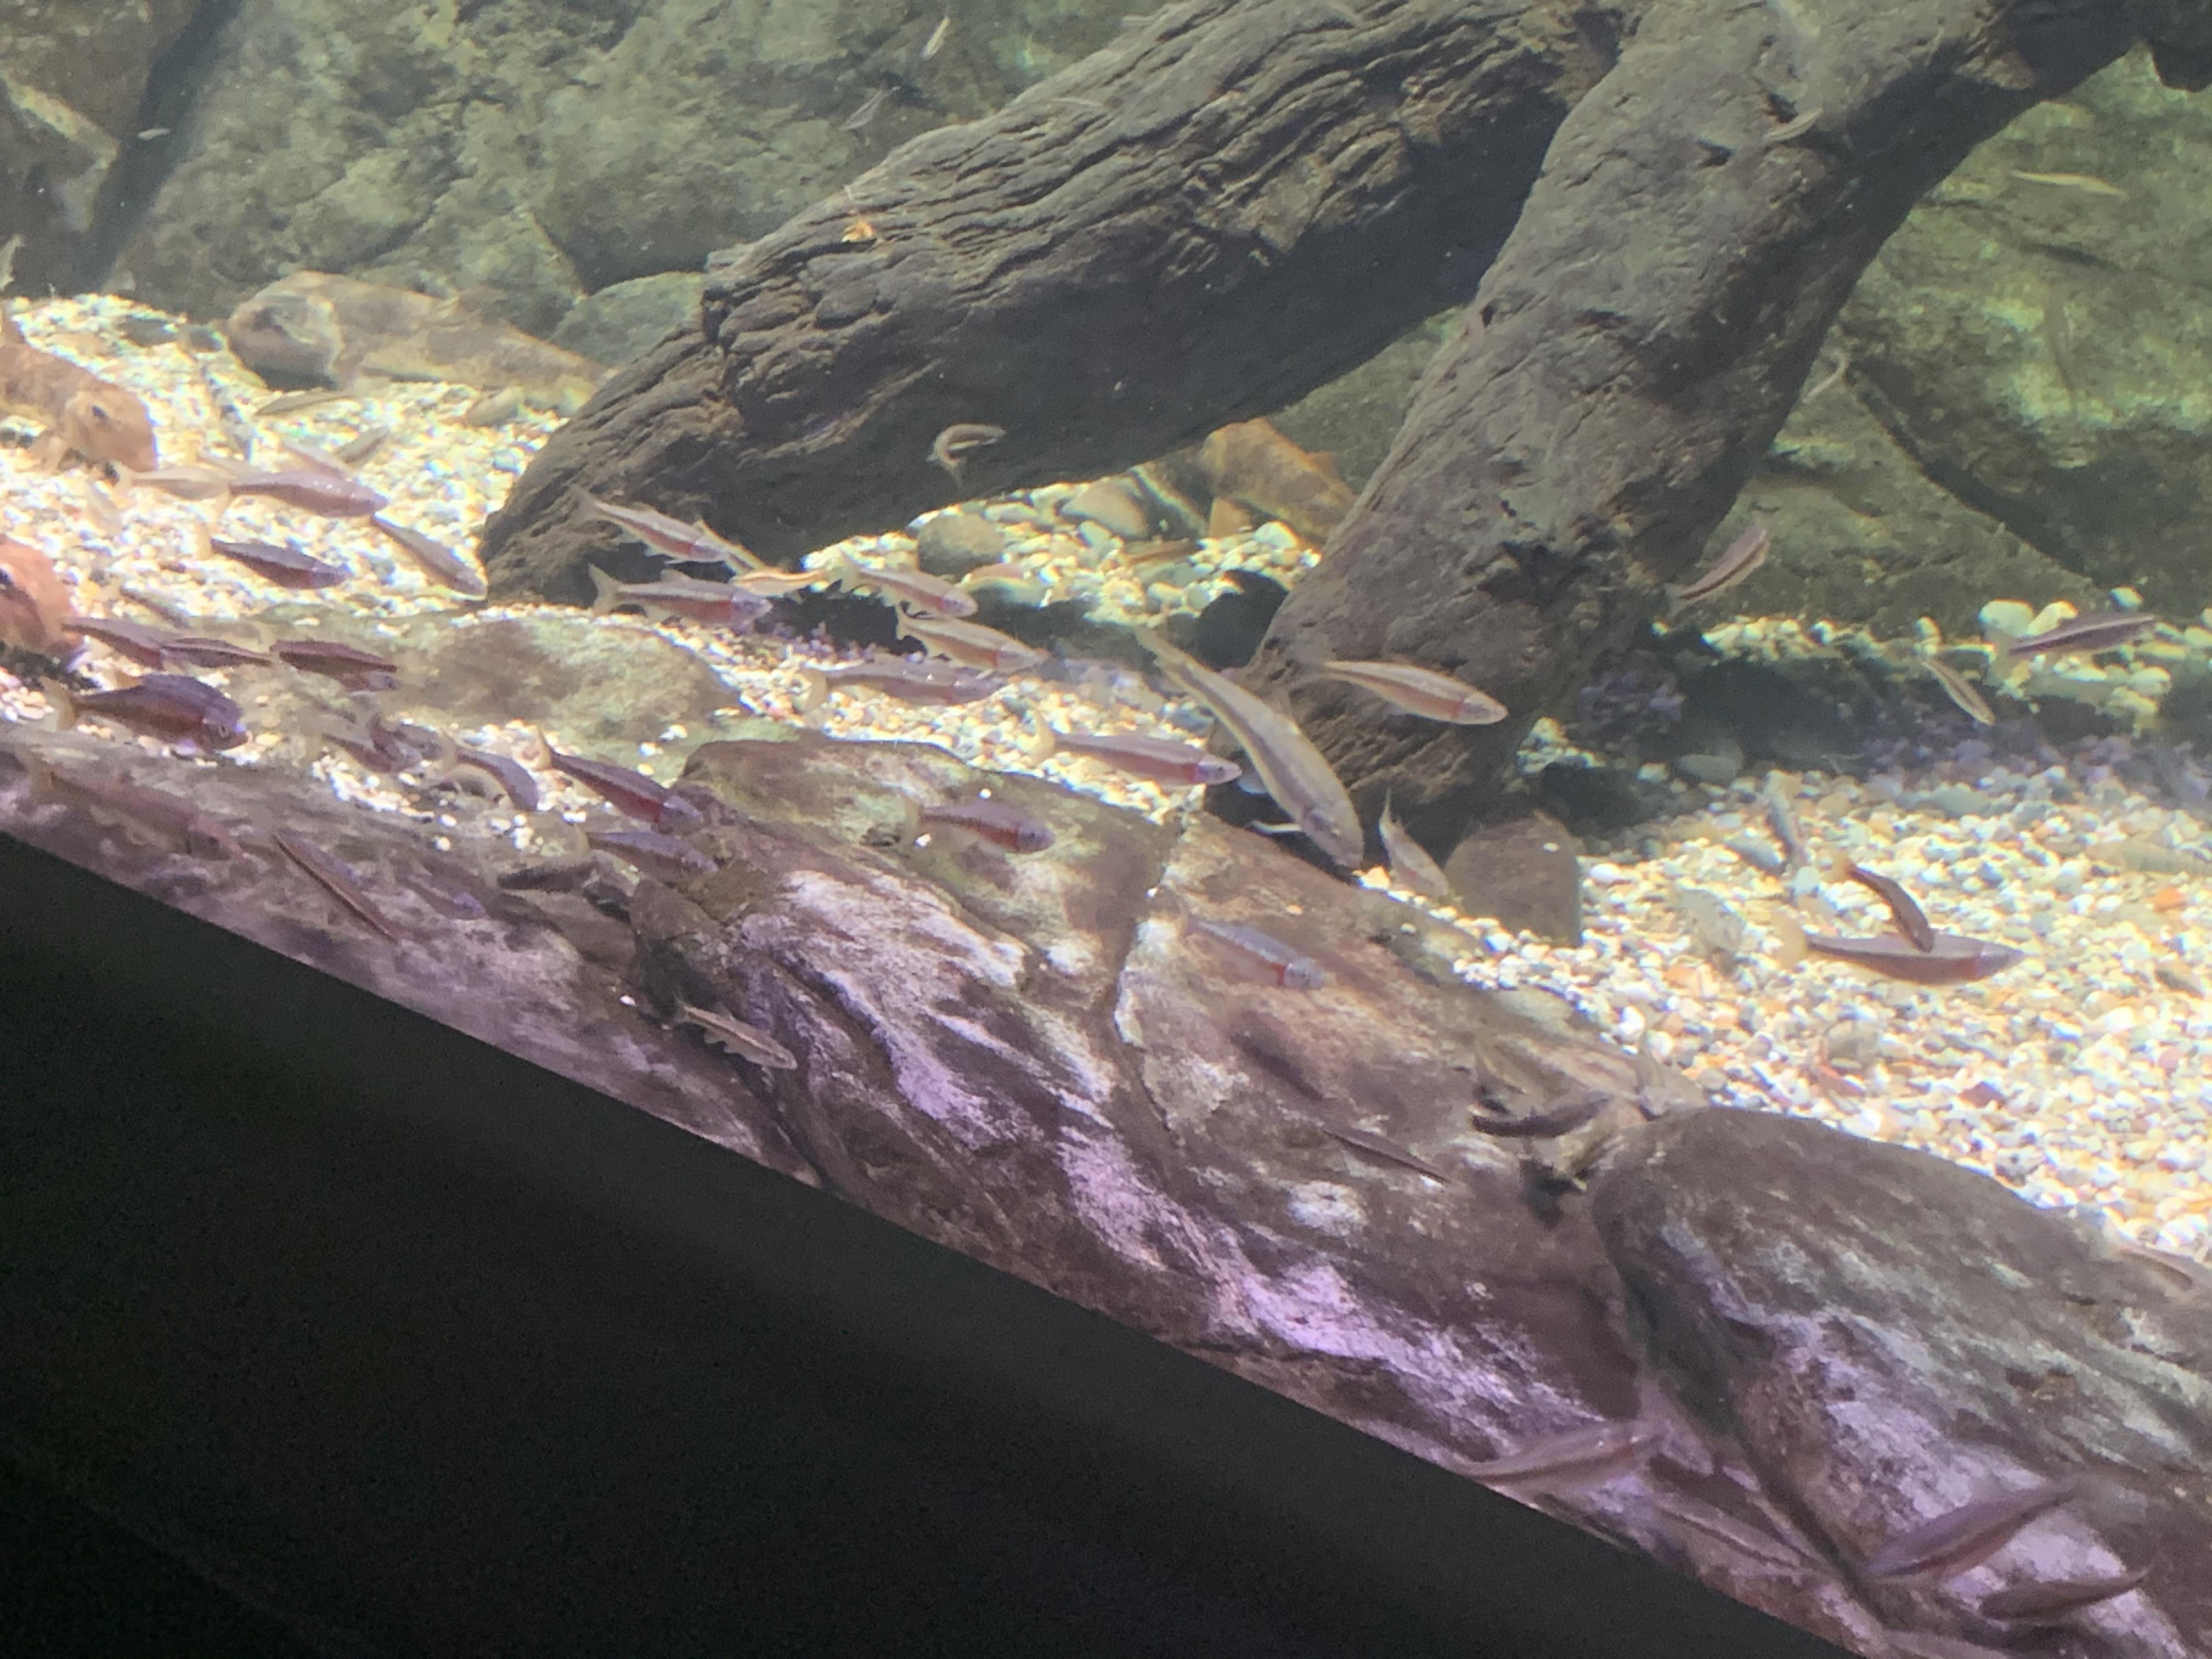fish: (1129, 615, 1367, 873), (1862, 1464, 2104, 1596), (1620, 1467, 1832, 1596), (0, 315, 160, 474), (1447, 1406, 1676, 1513), (1026, 702, 1244, 802), (5, 749, 195, 863), (1787, 906, 2026, 993), (1305, 631, 1510, 732), (533, 723, 705, 835), (273, 821, 409, 958), (1167, 889, 1329, 997), (52, 671, 249, 760), (573, 481, 744, 575), (212, 439, 394, 526), (583, 559, 777, 634), (798, 652, 1005, 721), (1658, 502, 1782, 615), (1973, 1563, 2156, 1635), (892, 599, 1049, 681), (664, 992, 805, 1080), (897, 784, 1059, 859), (1318, 1114, 1463, 1197), (2000, 601, 2160, 676), (0, 533, 87, 662), (1228, 1016, 1345, 1112), (573, 812, 721, 887), (359, 511, 486, 598), (843, 545, 979, 622), (1456, 1082, 1620, 1145), (1836, 852, 1937, 951), (200, 525, 347, 592), (1378, 793, 1463, 906), (1912, 647, 2010, 735), (446, 732, 547, 817), (61, 608, 178, 674), (157, 627, 279, 676), (110, 455, 223, 507), (1620, 1030, 1686, 1119), (927, 422, 1008, 490), (270, 634, 397, 678), (315, 725, 399, 781), (728, 558, 833, 598), (1122, 538, 1205, 570)
